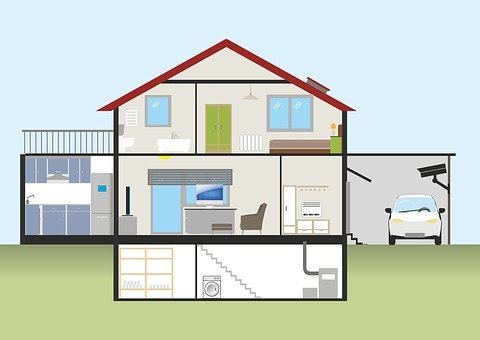car: (381, 189, 448, 245)
chair: (235, 197, 268, 234)
tvmonitor: (190, 178, 228, 209)
